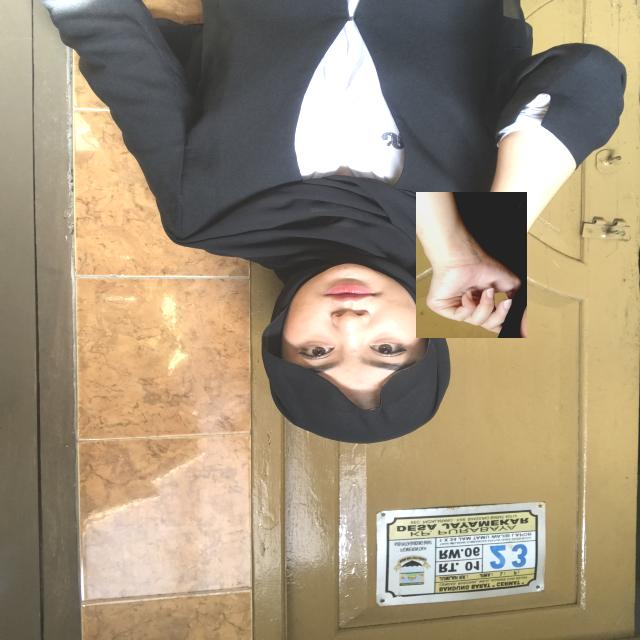ibu: (416, 192, 527, 338)
